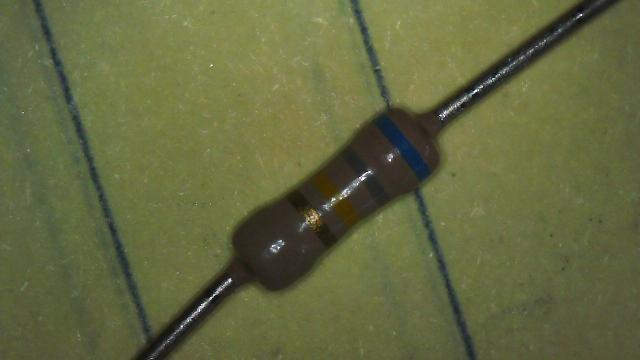blue: (374, 114, 431, 181)
gold: (288, 189, 335, 247)
grey: (340, 146, 390, 205)
resistor: (193, 72, 473, 323)
yellow: (309, 170, 362, 227)
